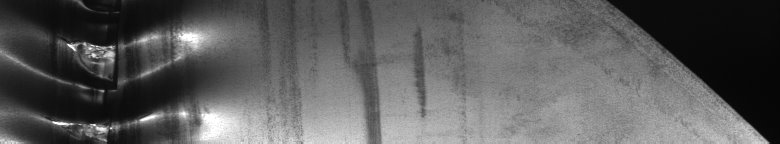ke: (4, 4, 208, 136)
